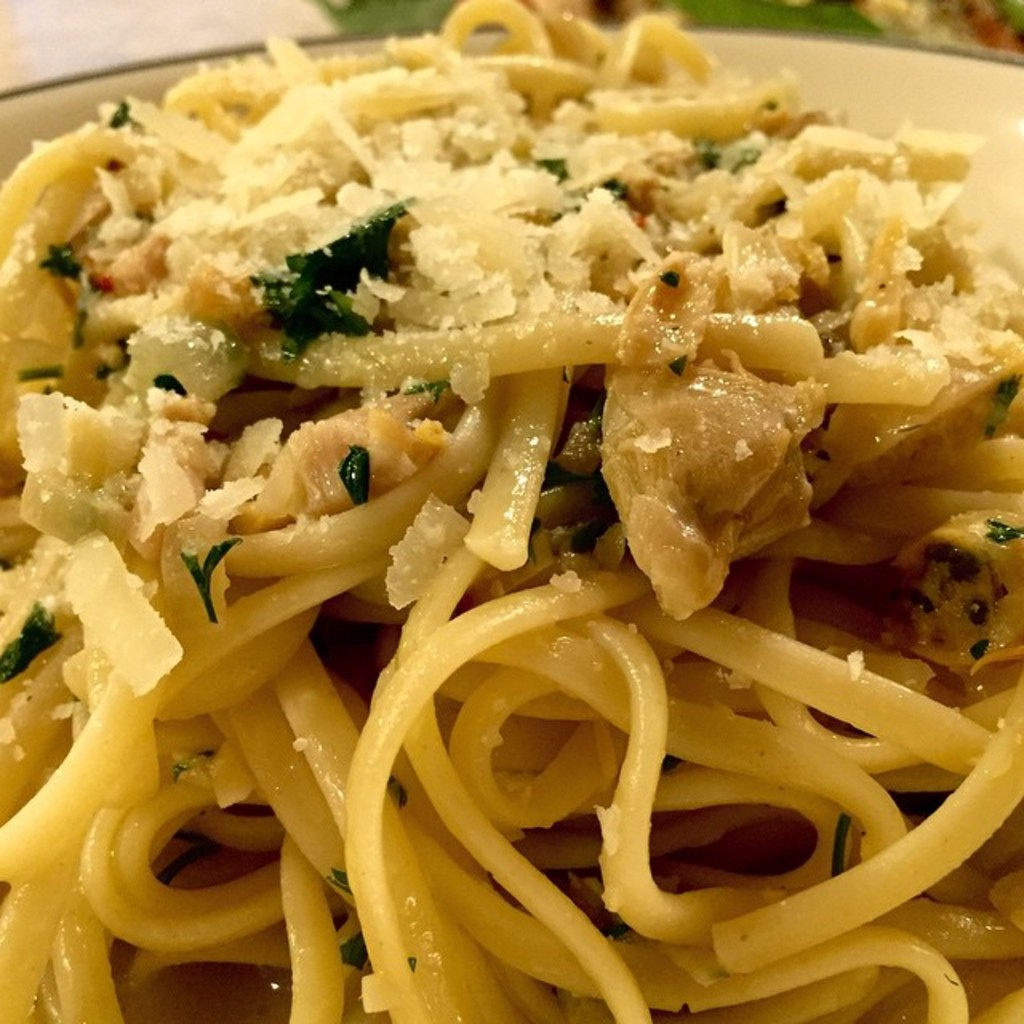pasta: (0, 0, 1022, 1022)
